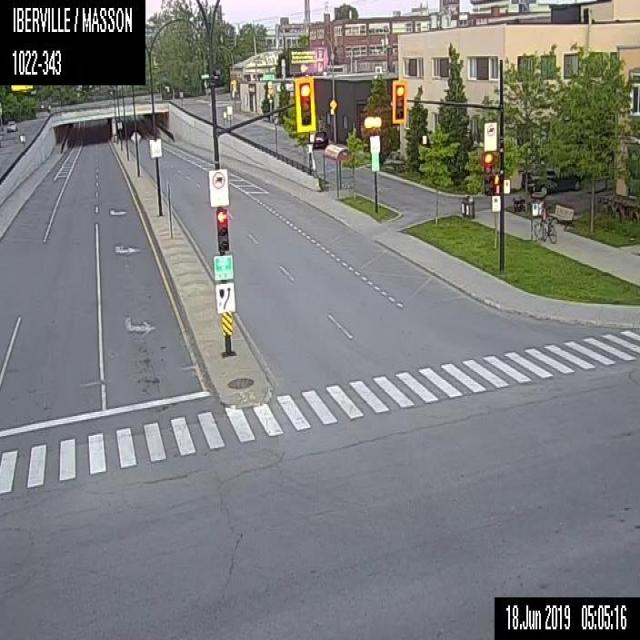vehicle: (313, 128, 327, 147), (5, 118, 17, 130)
